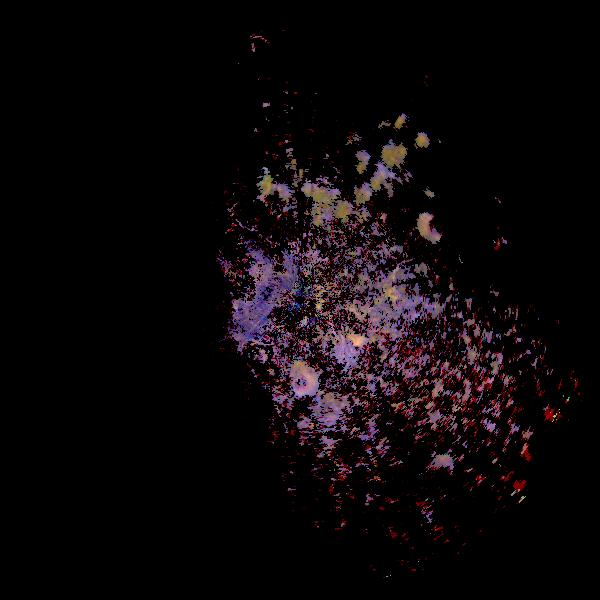roost: (414, 203, 459, 248), (282, 355, 327, 400), (383, 268, 428, 313), (256, 179, 295, 218), (428, 450, 461, 483), (344, 329, 368, 353)
